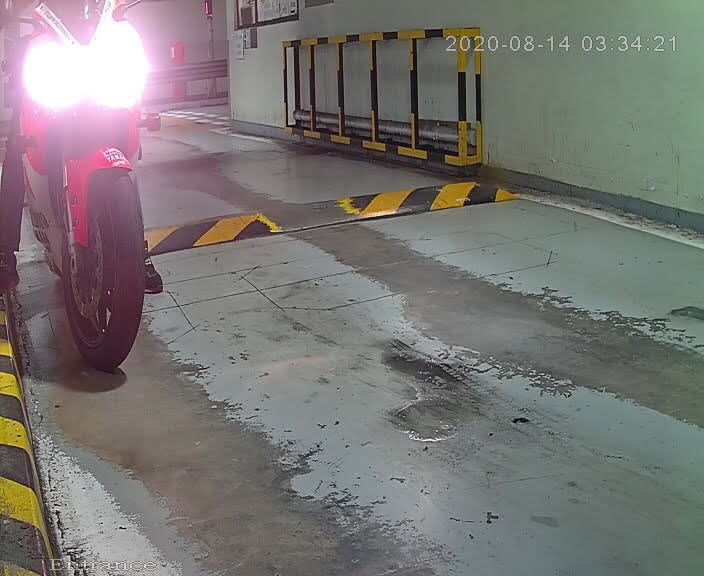motorcycle: (1, 1, 196, 401)
